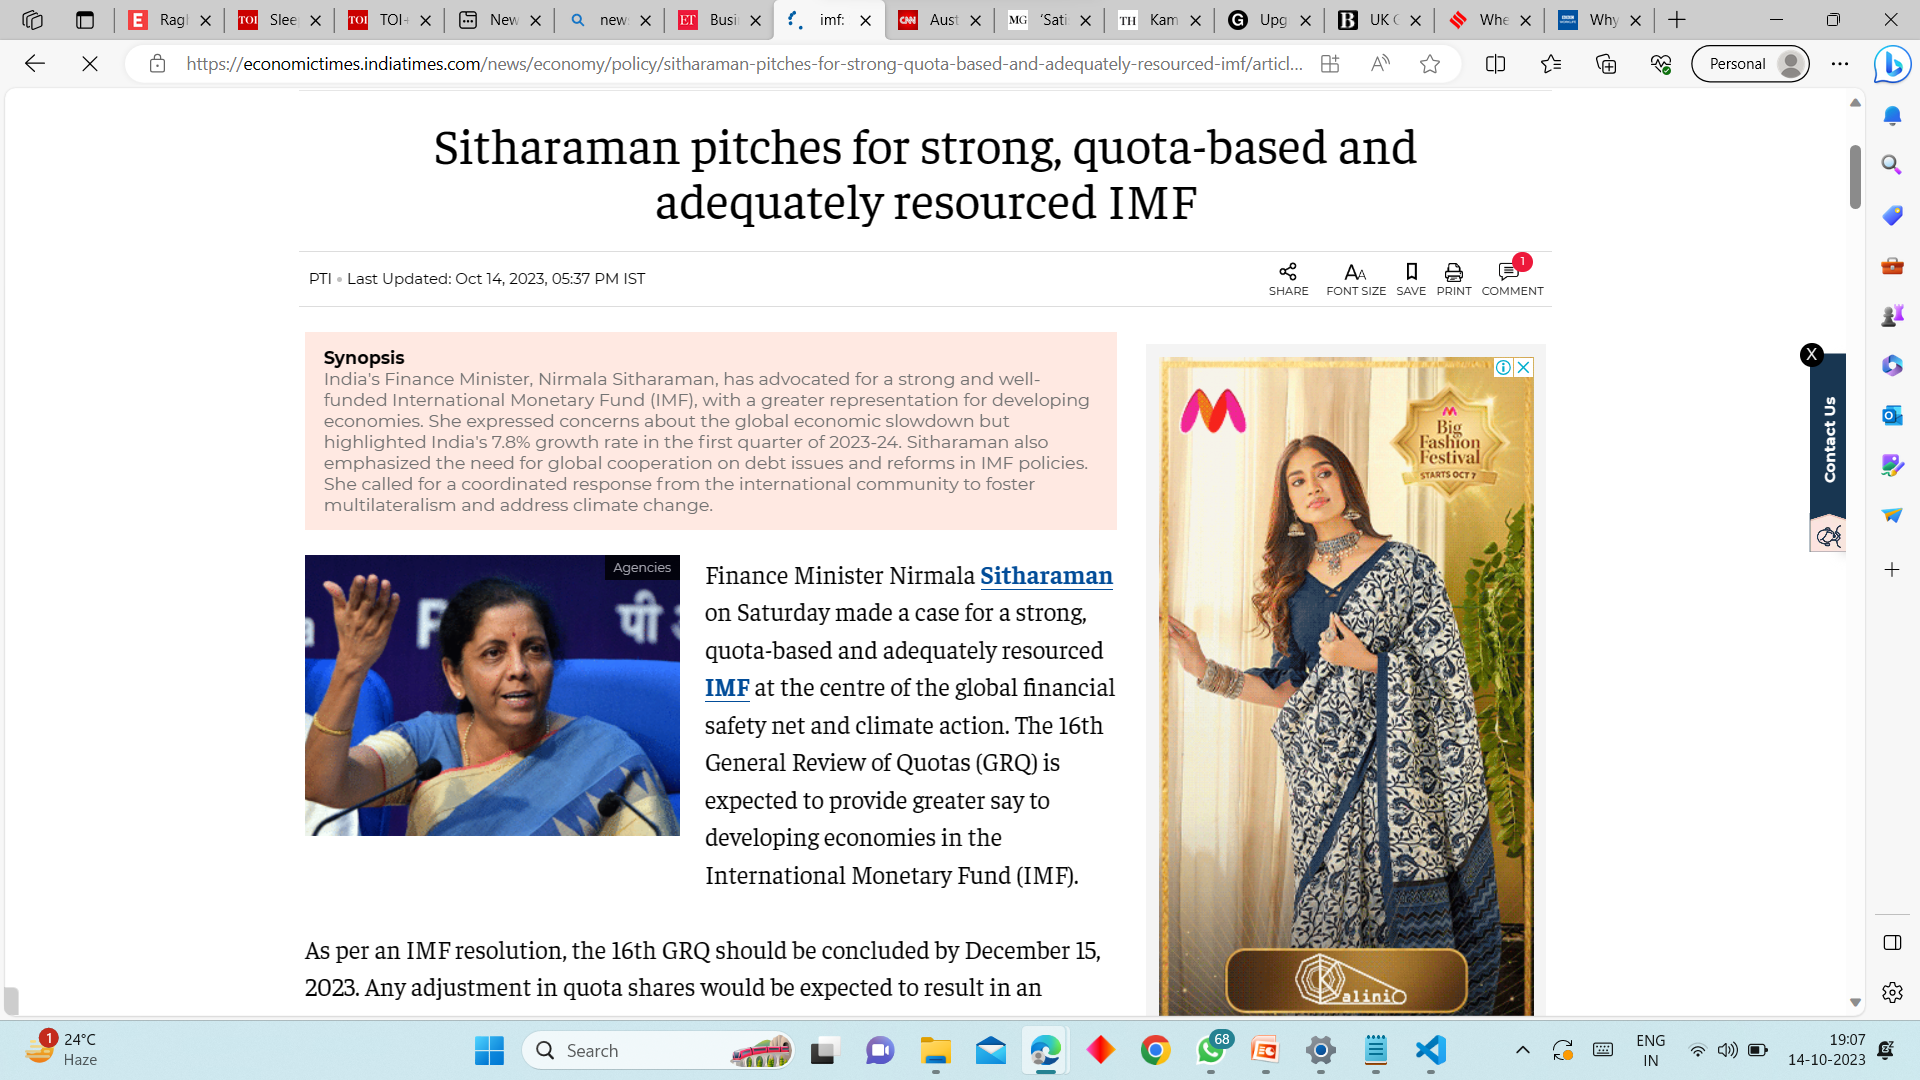Image: (1150, 347, 1523, 1004), (302, 556, 678, 825)
Paragraph: (702, 556, 1116, 893), (319, 369, 1098, 517), (407, 121, 1489, 225), (293, 942, 1102, 1013), (293, 261, 642, 306), (327, 340, 409, 360)
